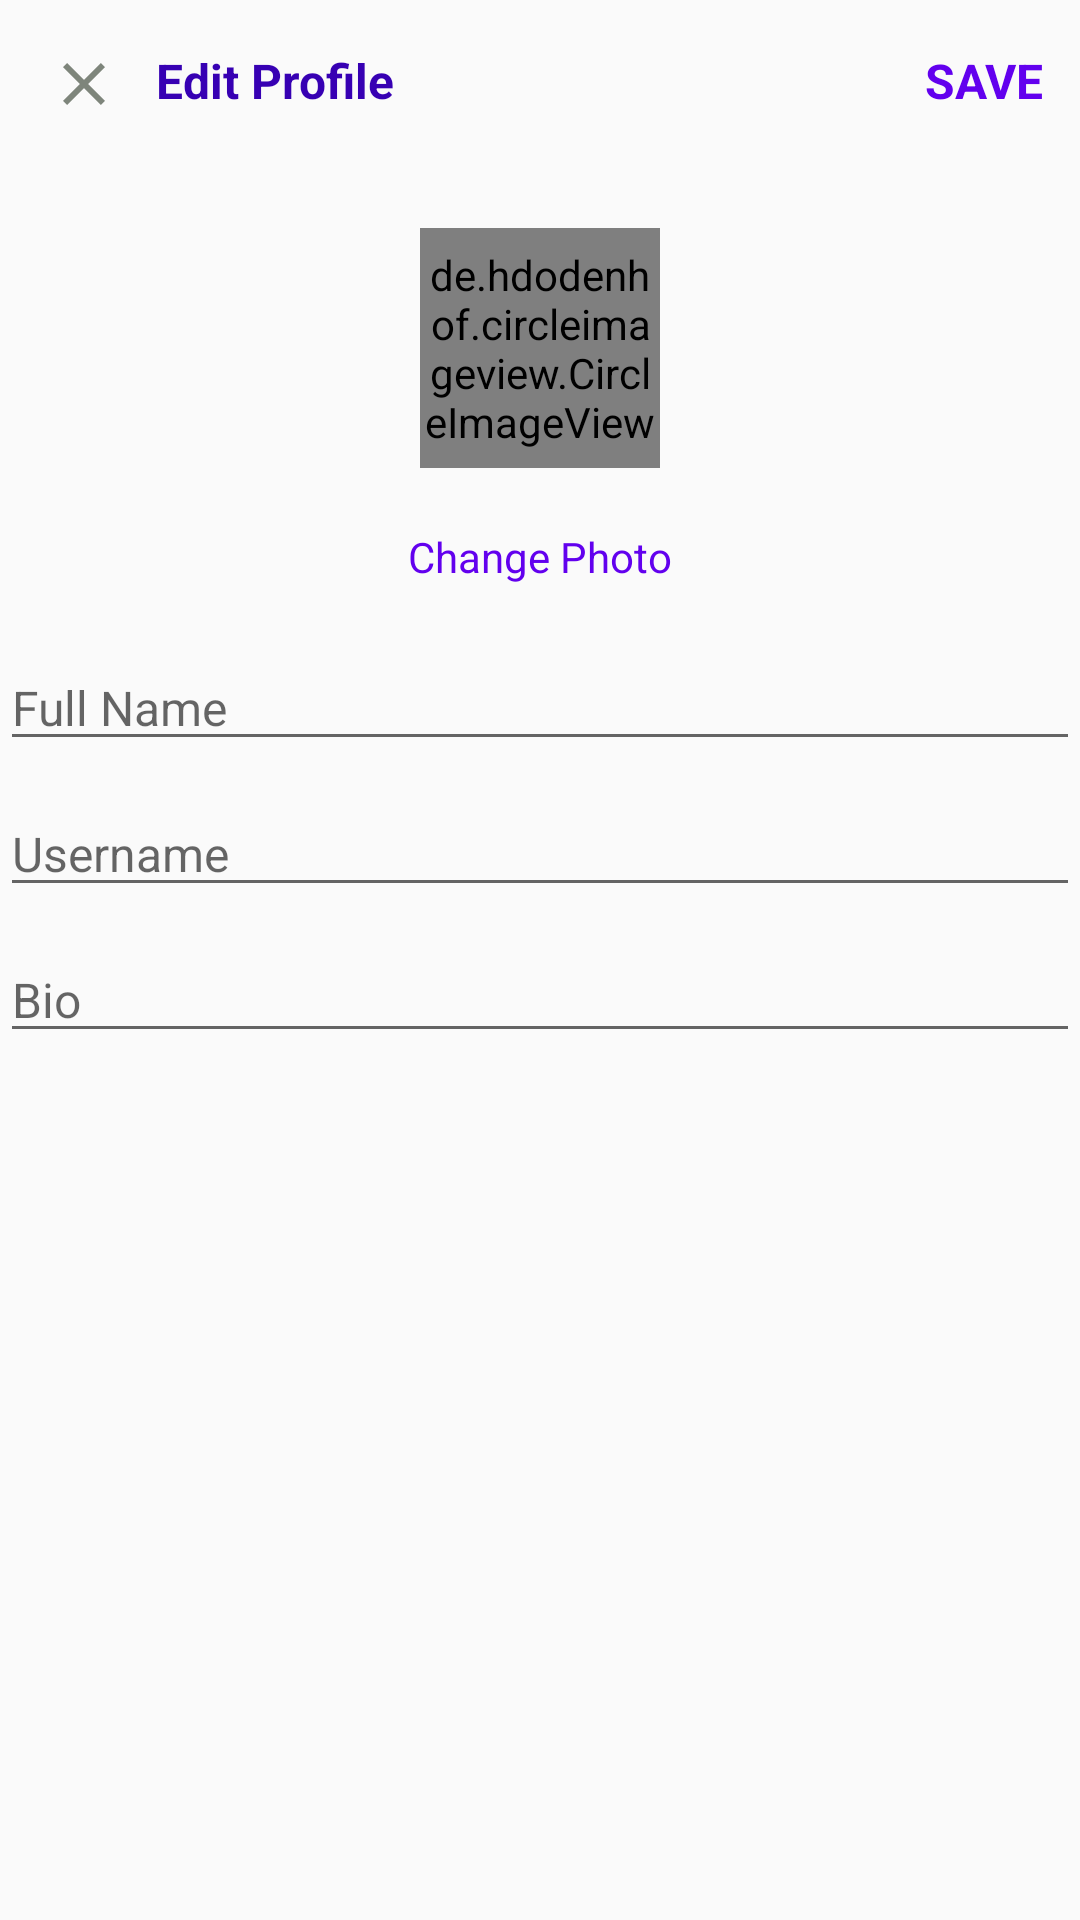

Screen size 1080 × 1920. Icon name, then its box in pixels as (x1, y1, x2, y2):
close: (63, 63, 105, 105)
